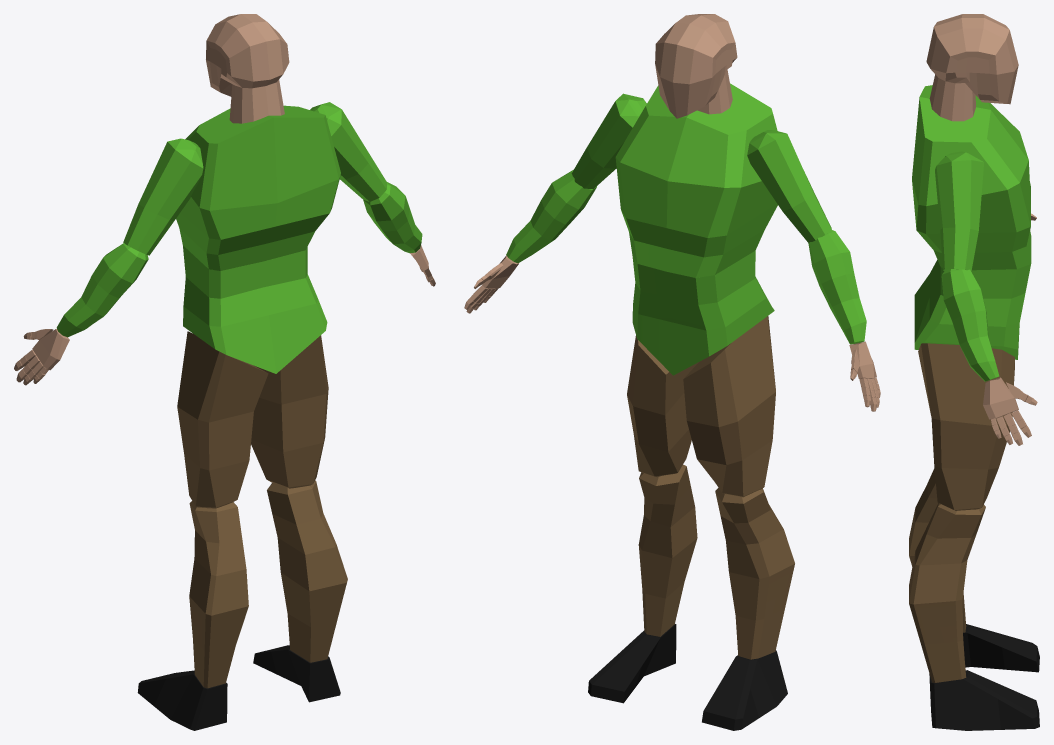
The model's file is NPC-character.fbx.
The picture shows the model from 3 angles, left to right: view 1: azimuth 30°, elevation 25°; view 2: azimuth 150°, elevation 25°; view 3: azimuth 270°, elevation 25°; orthographic projection.
Visible parts, largest first — view 1: Chest, Waist_001, Leg_top_005, Leg_bottom_006, Leg_bottom_005, Leg_top_006, Head_005, Arms_top_005, Arms_bottom_005, Feet_005, Arms_top_006, Arms_bottom_006 (+3 smaller); view 2: Chest, Leg_top_005, Waist_001, Leg_bottom_005, Leg_bottom_006, Leg_top_006, Head_005, Arms_top_005, Arms_bottom_005, Arms_bottom_006, Arms_top_006, Feet_005 (+4 smaller); view 3: Chest, Leg_top_006, Leg_bottom_006, Head_005, Waist_001, Arms_top_006, Arms_bottom_006, Feet_006, Head_004, Feet_005, Feet_007, Leg_bottom_005 (+2 smaller).
Boxes of the visible parts, x1,y1,x2,y2 form: Chest: [176, 105, 340, 270]; Waist_001: [183, 245, 327, 373]; Leg_top_005: [177, 331, 268, 508]; Leg_bottom_006: [267, 480, 347, 662]; Leg_bottom_005: [189, 501, 248, 688]; Leg_top_006: [251, 335, 328, 488]; Head_005: [206, 14, 289, 96]; Arms_top_005: [123, 138, 203, 255]; Arms_bottom_005: [56, 243, 148, 337]; Feet_005: [154, 670, 227, 730]; Arms_top_006: [310, 102, 386, 201]; Arms_bottom_006: [363, 182, 422, 253]; Chest: [615, 83, 777, 277]; Leg_top_005: [683, 316, 775, 497]; Waist_001: [632, 250, 774, 375]; Leg_bottom_005: [715, 488, 794, 659]; Leg_bottom_006: [638, 464, 697, 636]; Leg_top_006: [627, 335, 698, 477]; Head_005: [655, 14, 737, 118]; Arms_top_005: [747, 130, 831, 242]; Arms_bottom_005: [808, 230, 866, 344]; Arms_bottom_006: [506, 170, 596, 263]; Arms_top_006: [571, 93, 646, 189]; Feet_005: [720, 650, 787, 717]; Chest: [912, 85, 1031, 270]; Leg_top_006: [918, 343, 1014, 510]; Leg_bottom_006: [909, 503, 985, 682]; Head_005: [926, 14, 1018, 104]; Waist_001: [914, 260, 1030, 359]; Arms_top_006: [935, 151, 983, 271]; Arms_bottom_006: [941, 269, 999, 381]; Feet_006: [929, 670, 1002, 730]; Head_004: [929, 74, 975, 121]; Feet_005: [963, 624, 1004, 669]; Feet_007: [998, 685, 1039, 729]; Leg_bottom_005: [909, 468, 966, 632].
Bounding box in the file's own units: 106 × 166 × 29.16.
